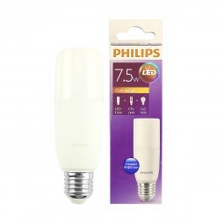carton: (104, 16, 166, 207)
light_bulb: (48, 43, 108, 206)
